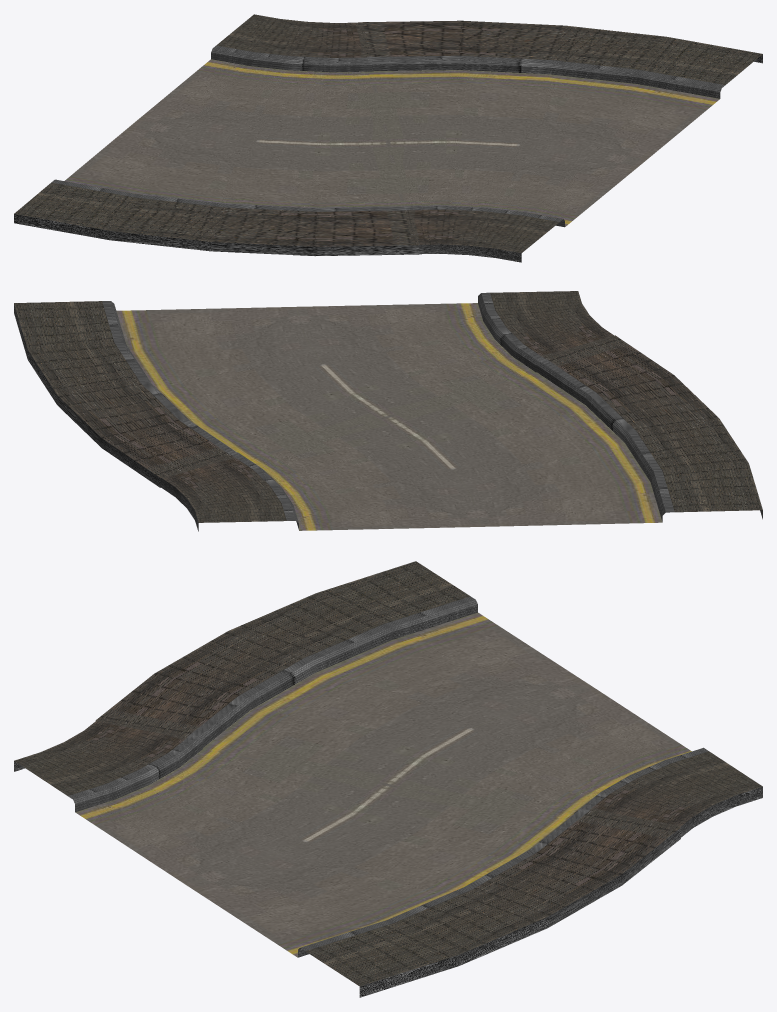
The model's file is 小弯道.fbx.
3 renders of one model, top to bottom at view 1: azimuth 30°, elevation 25°; view 2: azimuth 150°, elevation 25°; view 3: azimuth 270°, elevation 25°, orthographic. The views are drawn at different scales.
Visible parts, largest first — view 1: polySurface69, polySurface71; view 2: polySurface69, polySurface71; view 3: polySurface71, polySurface69.
Boxes of the visible parts, left/top/right/bottom form: polySurface69: left=358, top=20, right=762, bottom=262; polySurface71: left=14, top=14, right=419, bottom=256; polySurface69: left=14, top=291, right=617, bottom=487; polySurface71: left=160, top=335, right=762, bottom=531; polySurface71: left=95, top=561, right=762, bottom=837; polySurface69: left=14, top=718, right=680, bottom=997.
Bounding box in the file's own units: 30.78 × 0.3822 × 22.9.
